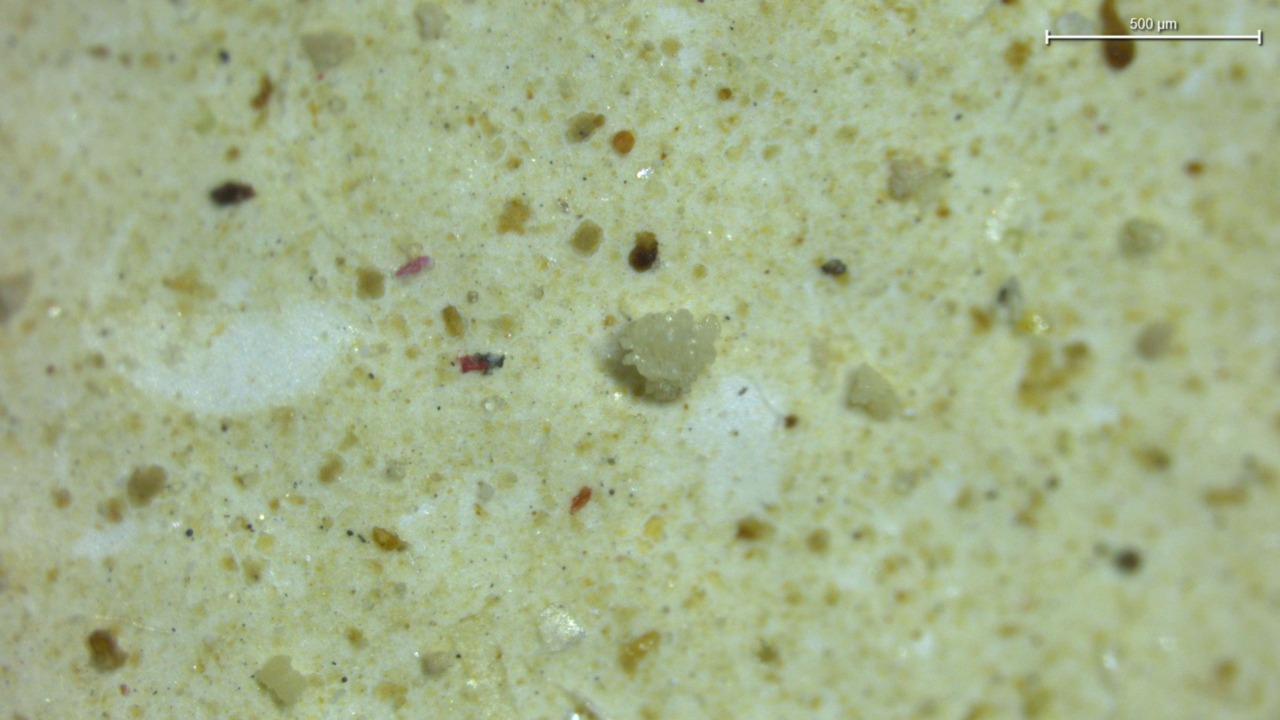microplastic_fragment: (615, 309, 719, 402), (846, 365, 901, 419)
